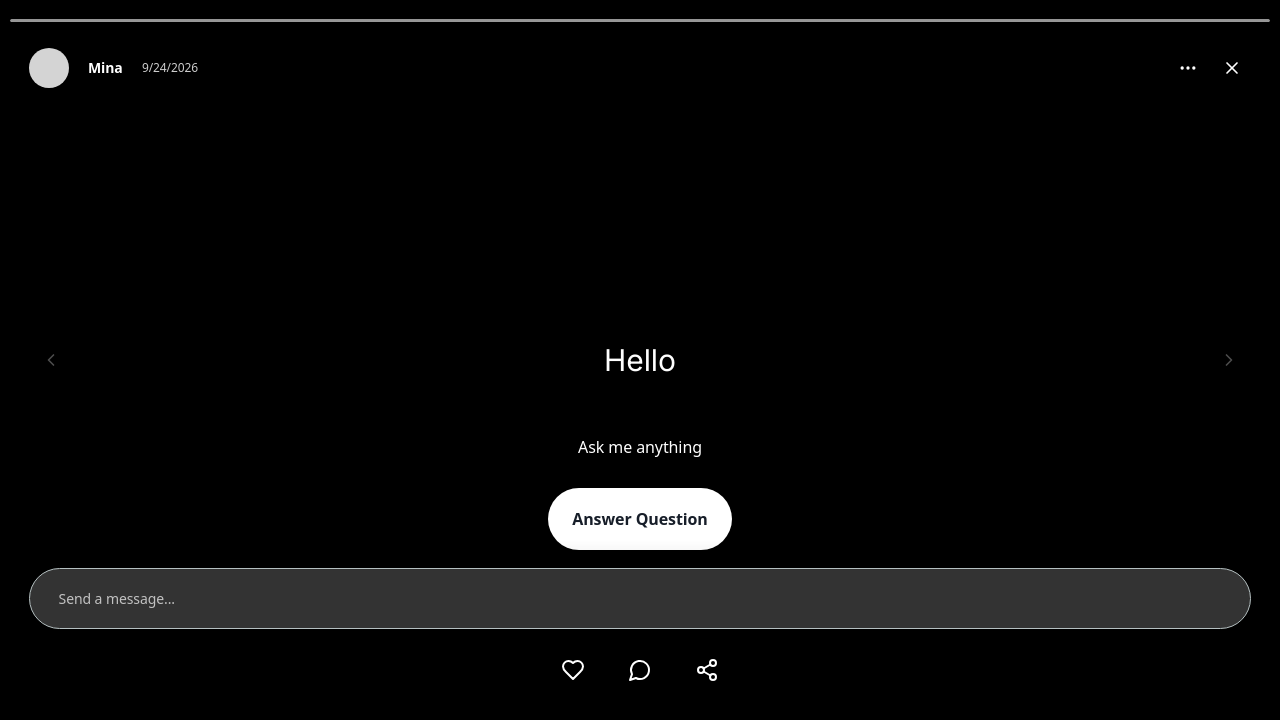
Scenario: question sticker answers › opens an inline answer box and pauses the story while typing
The image size is (1280, 720).
Step 1. Click the button with test id "story-question-answer" → [640, 519], box [548,488,732,550]
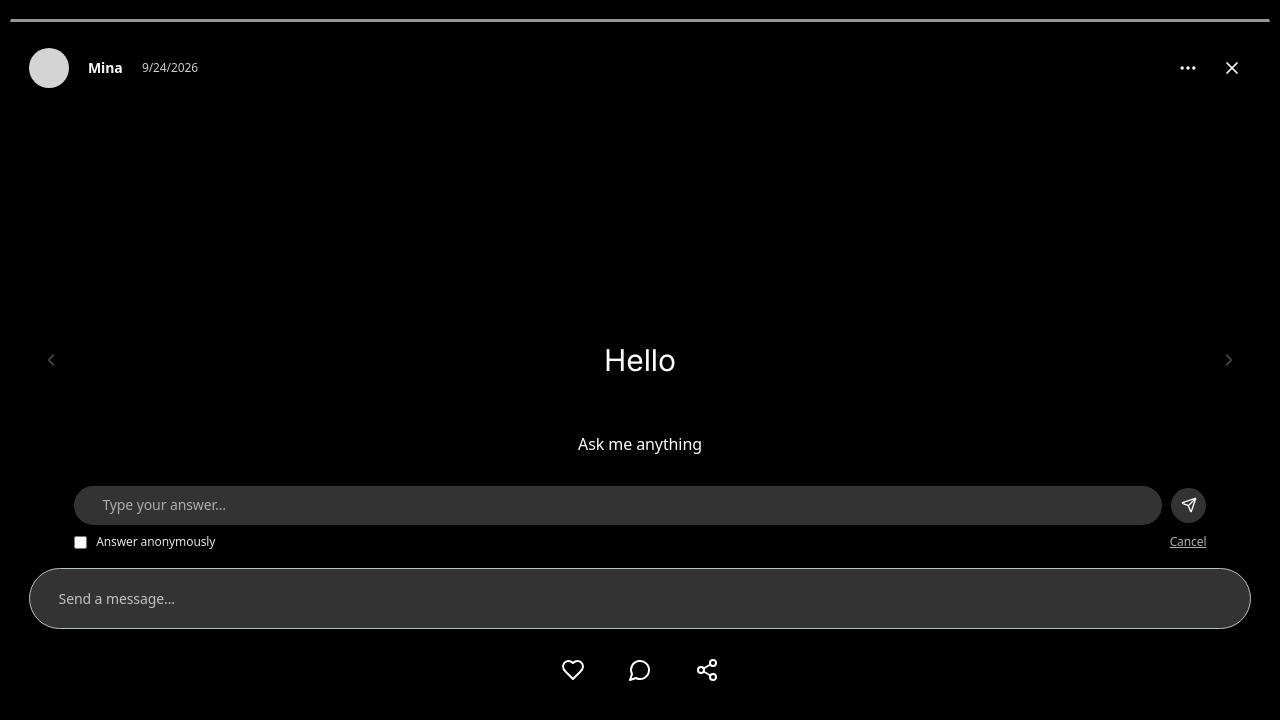
Now the field with test id "story-answer-input" is shown, box [74,486,1162,525]
